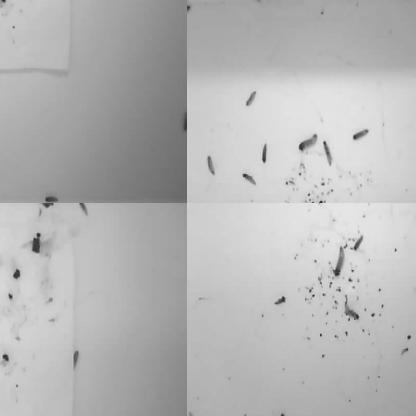PtecticusTenebrifer: (333, 246, 346, 277), (299, 134, 318, 151), (353, 127, 369, 142), (323, 141, 332, 167), (242, 173, 258, 186), (246, 90, 258, 107), (207, 155, 216, 177), (344, 309, 360, 320), (354, 234, 364, 250), (273, 296, 286, 307), (262, 143, 268, 165), (182, 109, 187, 134), (73, 350, 79, 370), (45, 195, 58, 203), (79, 203, 87, 215), (0, 352, 8, 364), (187, 4, 194, 17), (0, 164, 4, 186), (187, 352, 191, 373), (321, 203, 334, 209), (321, 203, 336, 208), (0, 324, 6, 336), (0, 203, 9, 209), (46, 203, 63, 206), (187, 227, 193, 235), (0, 0, 7, 6), (0, 0, 4, 10), (187, 203, 195, 207)
